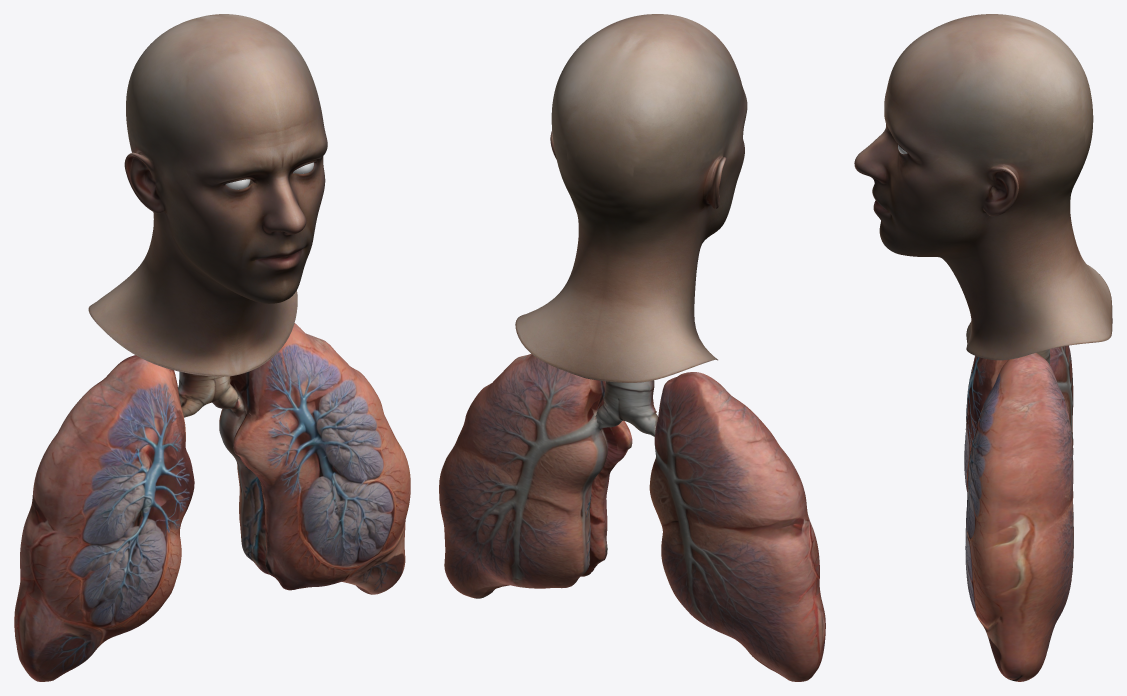
The model's file is sistemaRespiratorio.fbx.
The picture shows the model from 3 angles, left to right: view 1: azimuth 30°, elevation 25°; view 2: azimuth 150°, elevation 25°; view 3: azimuth 270°, elevation 25°; orthographic projection. The views are drawn at different scales.
Parts seen in each view (by area): view 1: Stylized Human Lungs, MetaHumanHead_Textured; view 2: Stylized Human Lungs, MetaHumanHead_Textured; view 3: MetaHumanHead_Textured, Stylized Human Lungs.
Boxes of the visible parts, x1,y1,x2,y2 form: Stylized Human Lungs: (14,323,410,681); MetaHumanHead_Textured: (88,14,327,376); Stylized Human Lungs: (439,354,825,681); MetaHumanHead_Textured: (515,14,747,382); MetaHumanHead_Textured: (854,14,1112,360); Stylized Human Lungs: (964,345,1073,681).
Bounding box in the file's own units: 41.05 × 64.1 × 25.51.
Materials: 4 (2 with a texture image).
